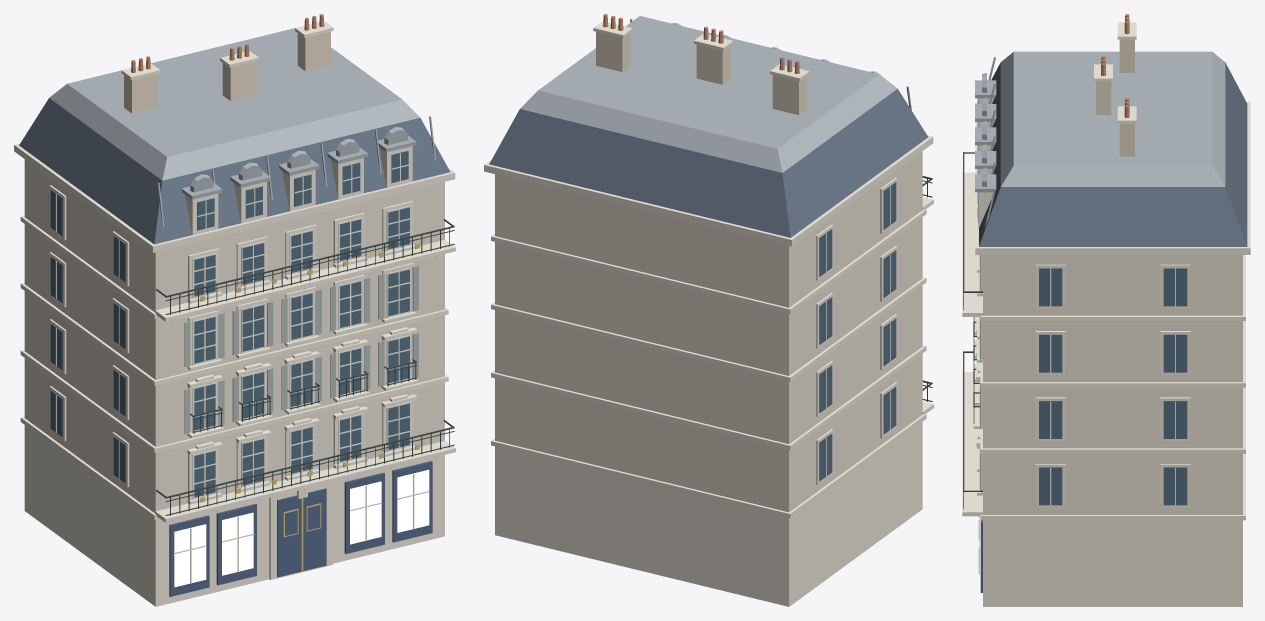
The model's file is Haussmann_Apartment.fbx.
3 renders of one model, left to right at view 1: azimuth 30°, elevation 25°; view 2: azimuth 150°, elevation 25°; view 3: azimuth 270°, elevation 25°, orthographic. The views are drawn at different scales.
Parts seen in each view (by area): view 1: Haussmann_Apartment; view 2: Haussmann_Apartment; view 3: Haussmann_Apartment.
Boxes of the visible parts, x1,y1,x2,y2 form: Haussmann_Apartment: (14, 14, 455, 606); Haussmann_Apartment: (484, 14, 933, 606); Haussmann_Apartment: (962, 14, 1250, 606).
Size of the model in its own units: 14.65 by 22.25 by 12.2.
